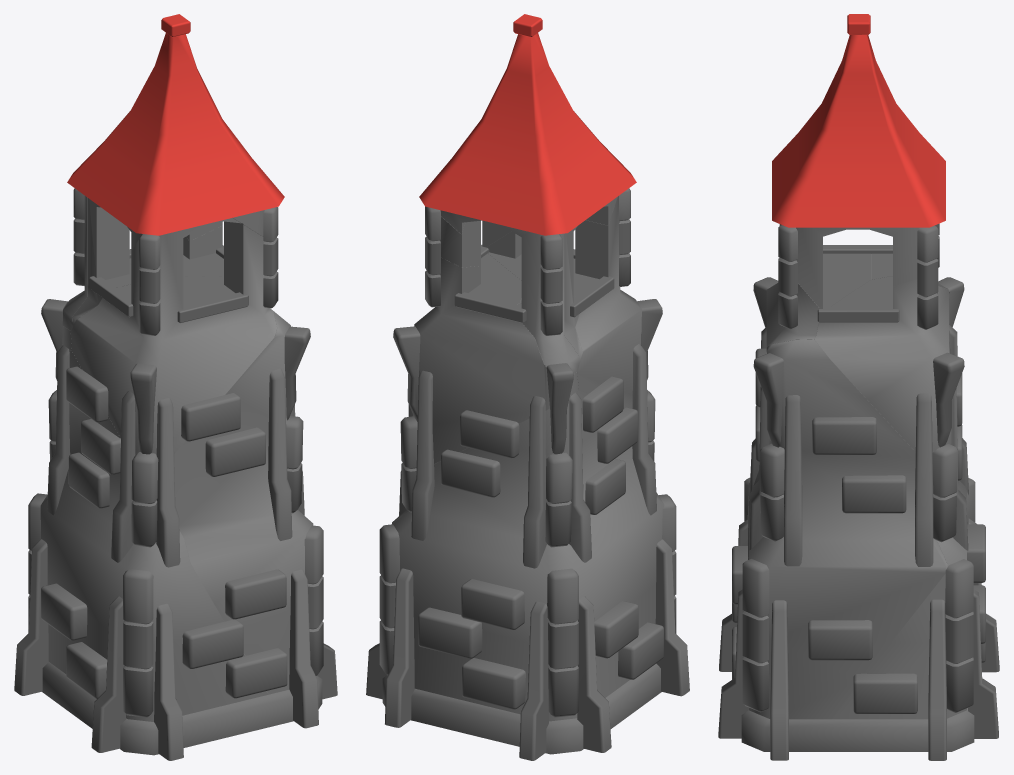
The model's file is Tower_Square_Tall.fbx.
3 renders of one model, left to right at view 1: azimuth 30°, elevation 25°; view 2: azimuth 150°, elevation 25°; view 3: azimuth 270°, elevation 25°, orthographic.
Visible parts, largest first — view 1: Tower_Square_Tall.001_0.005, Tower_Square_Tall.001_0_cell.003, Tower_Square_Tall.001_0_cell.001, Tower_Square_Tall.001_0_cell.004, Tower_Square_Tall.001_0.007, Tower_Square_Tall.001_0.006, Tower_Square_Tall.001_0.014, Tower_Square_Tall.001_0.016, Tower_Square_Tall.001_0.023, Tower_Square_Tall.001_0.013, Tower_Square_Tall.001_0_cell, Tower_Square_Tall.001_0.021 (+21 smaller); view 2: Tower_Square_Tall.001_0_cell.004, Tower_Square_Tall.001_0.005, Tower_Square_Tall.001_0_cell.005, Tower_Square_Tall.001_0.007, Tower_Square_Tall.001_0_cell.003, Tower_Square_Tall.001_0.006, Tower_Square_Tall.001_0.018, Tower_Square_Tall.001_0.026, Tower_Square_Tall.001_0.020, Tower_Square_Tall.001_0.013, Tower_Square_Tall.001_0_cell.006, Tower_Square_Tall.001_0.021 (+20 smaller); view 3: Tower_Square_Tall.001_0_cell.001, Tower_Square_Tall.001_0.005, Tower_Square_Tall.001_0_cell.005, Tower_Square_Tall.001_0.007, Tower_Square_Tall.001_0.006, Tower_Square_Tall.001_0.017, Tower_Square_Tall.001_0_cell.004, Tower_Square_Tall.001_0.012, Tower_Square_Tall.001_0.025, Tower_Square_Tall.001_0.024, Tower_Square_Tall.001_0_cell.003, Tower_Square_Tall.001_0_cell.002 (+21 smaller).
Part boxes in pixels (box(x1,y1,x2,y2)): Tower_Square_Tall.001_0.005: box(67, 14, 284, 235); Tower_Square_Tall.001_0_cell.003: box(70, 218, 277, 454); Tower_Square_Tall.001_0_cell.001: box(174, 311, 313, 694); Tower_Square_Tall.001_0_cell.004: box(40, 344, 268, 721); Tower_Square_Tall.001_0.007: box(14, 539, 337, 760); Tower_Square_Tall.001_0.006: box(42, 662, 322, 755); Tower_Square_Tall.001_0.014: box(182, 619, 287, 698); Tower_Square_Tall.001_0.016: box(181, 393, 265, 476); Tower_Square_Tall.001_0.023: box(123, 569, 153, 717); Tower_Square_Tall.001_0.013: box(41, 583, 107, 698); Tower_Square_Tall.001_0_cell: box(72, 197, 141, 325); Tower_Square_Tall.001_0.021: box(68, 419, 120, 508); Tower_Square_Tall.001_0_cell.004: box(393, 390, 664, 721); Tower_Square_Tall.001_0.005: box(419, 14, 636, 235); Tower_Square_Tall.001_0_cell.005: box(413, 253, 578, 463); Tower_Square_Tall.001_0.007: box(366, 539, 689, 760); Tower_Square_Tall.001_0_cell.003: box(486, 196, 641, 408); Tower_Square_Tall.001_0.006: box(382, 663, 661, 754); Tower_Square_Tall.001_0.018: box(418, 607, 525, 709); Tower_Square_Tall.001_0.026: box(547, 568, 578, 717); Tower_Square_Tall.001_0.020: box(441, 410, 519, 497); Tower_Square_Tall.001_0.013: box(594, 601, 663, 679); Tower_Square_Tall.001_0_cell.006: box(497, 224, 578, 374); Tower_Square_Tall.001_0.021: box(585, 407, 637, 514); Tower_Square_Tall.001_0_cell.001: box(747, 339, 947, 719); Tower_Square_Tall.001_0.005: box(772, 14, 945, 227); Tower_Square_Tall.001_0_cell.005: box(814, 276, 951, 452); Tower_Square_Tall.001_0.007: box(718, 518, 999, 760); Tower_Square_Tall.001_0.006: box(741, 708, 974, 751); Tower_Square_Tall.001_0.017: box(808, 620, 917, 713); Tower_Square_Tall.001_0_cell.004: box(747, 480, 966, 719); Tower_Square_Tall.001_0.012: box(812, 417, 906, 513); Tower_Square_Tall.001_0.025: box(945, 559, 973, 712); Tower_Square_Tall.001_0.024: box(742, 559, 769, 712); Tower_Square_Tall.001_0_cell.003: box(766, 253, 871, 346); Tower_Square_Tall.001_0_cell.002: box(796, 227, 919, 308).
Size of the model in its own units: 4.22 by 11.33 by 4.22.
